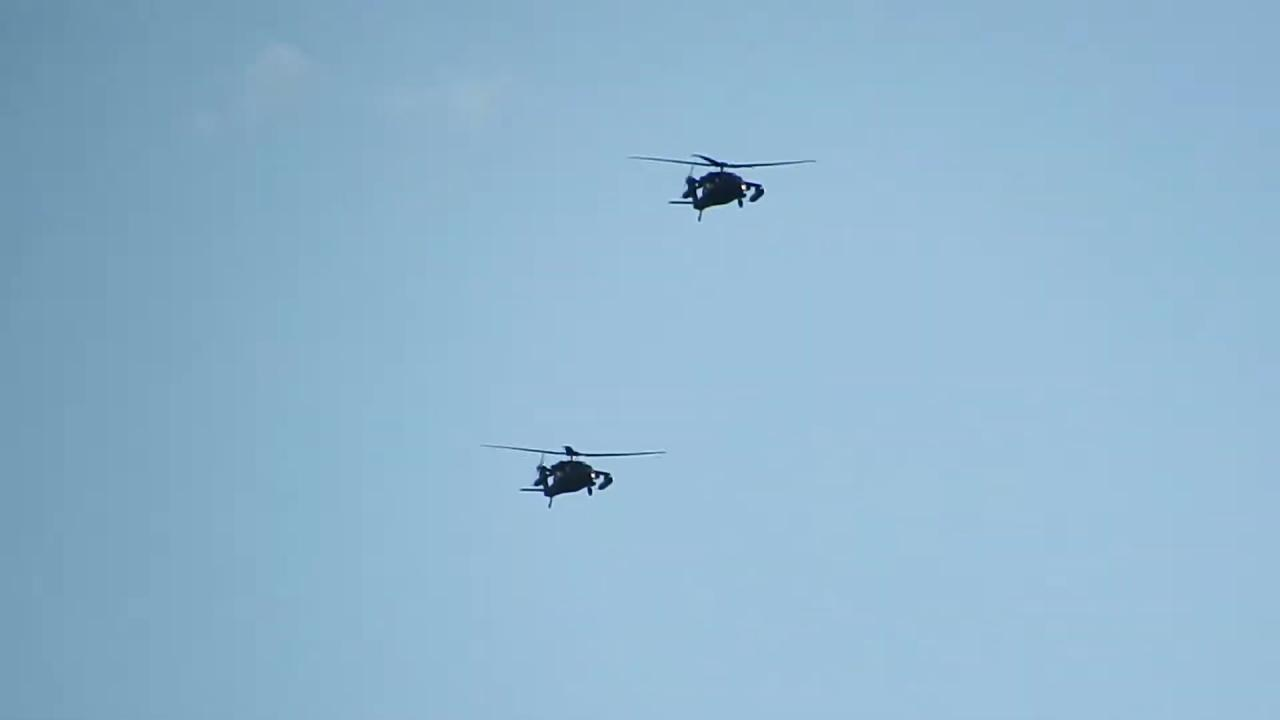Helicopter: (465, 425, 682, 521), (616, 132, 828, 230)
